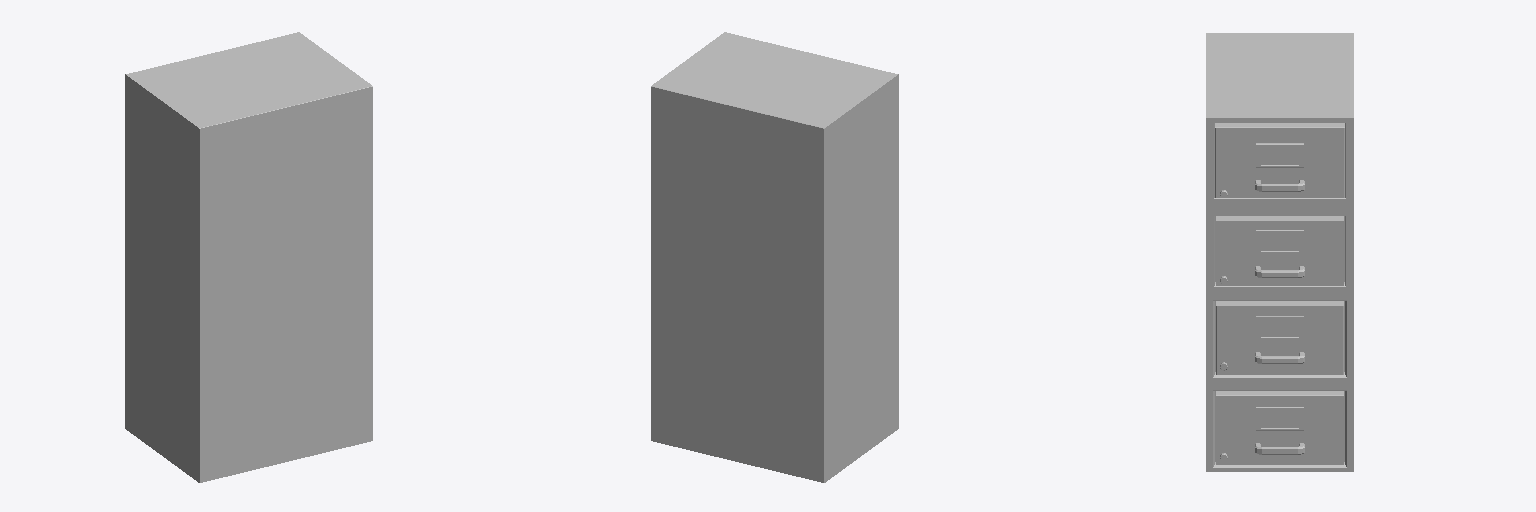
Rendered from FileCabinets.obj.
3 views of the same model, side by side, from view 1: azimuth 30°, elevation 25°; view 2: azimuth 150°, elevation 25°; view 3: azimuth 270°, elevation 25° (orthographic).
Visible parts, largest first — view 1: FileCabinets; view 2: FileCabinets; view 3: FileCabinets.
Part boxes in pixels (left/top/right/bottom): FileCabinets: left=125, top=32, right=372, bottom=482; FileCabinets: left=651, top=32, right=898, bottom=482; FileCabinets: left=1206, top=33, right=1353, bottom=471.
Size of the model in its own units: 3.28 by 5.95 by 2.25.